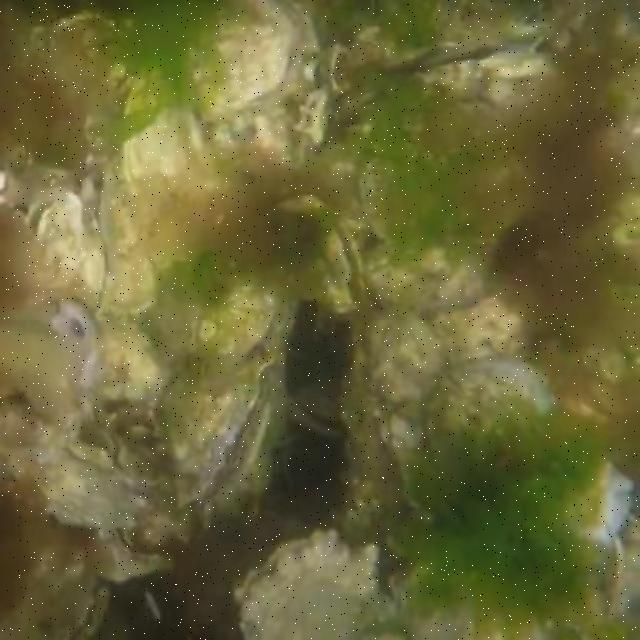Oyster-Closed: (181, 5, 287, 117), (115, 113, 197, 227), (51, 437, 145, 533), (30, 190, 105, 310), (430, 305, 524, 368)
Oyster-Open: (165, 355, 272, 518), (148, 260, 298, 373), (237, 526, 385, 638), (268, 198, 370, 317), (412, 38, 552, 93), (53, 560, 115, 638), (286, 395, 346, 438)
